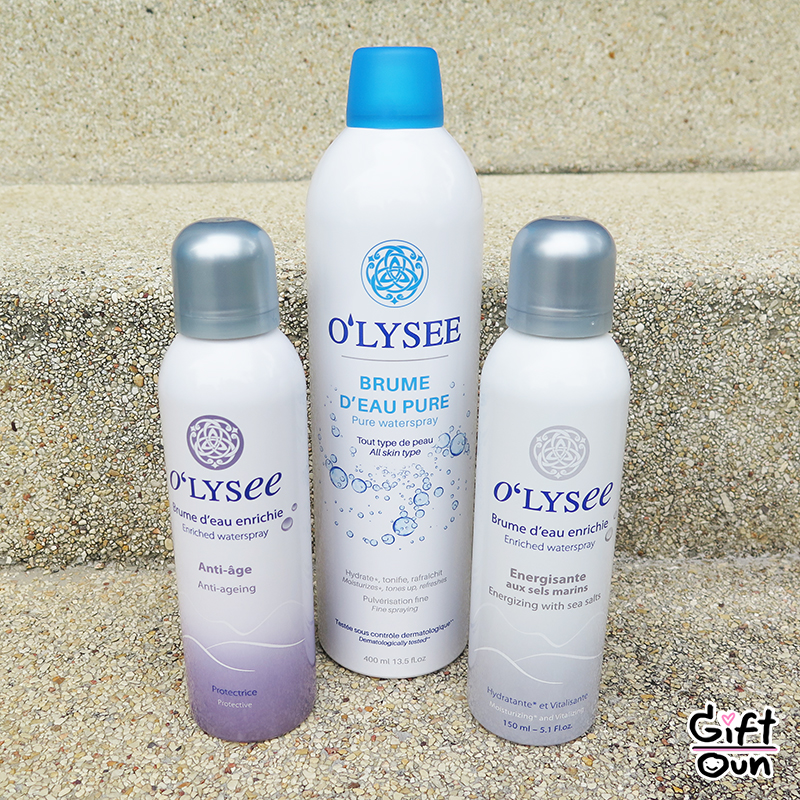Aerosol_cans: (303, 43, 485, 692), (461, 214, 636, 747), (152, 217, 327, 745)
